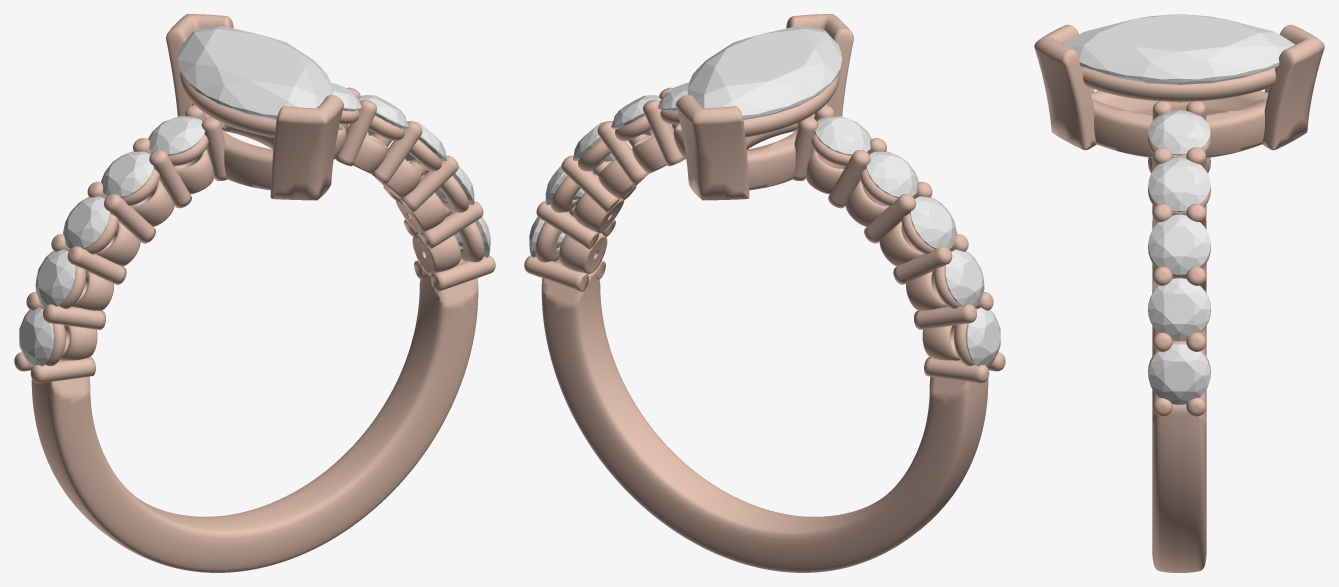
File: diamond-marquise-rosegold-protectededges2prongs-straightband-11stone.glb
The picture shows the model from 3 angles, left to right: view 1: azimuth 30°, elevation 25°; view 2: azimuth 150°, elevation 25°; view 3: azimuth 270°, elevation 25°; orthographic projection. The views are drawn at different scales.
Visible parts, largest first — view 1: metal, stone, dia.004, dia.005, dia.003, dia.006, dia, dia.010; view 2: metal, stone, dia.004, dia.005, dia.003, dia.006, dia, dia.010; view 3: metal, stone, dia.008, dia.007, dia.009, dia.010, dia.011.
Boxes of the visible parts, bbox=[...] form: metal: bbox=[14, 14, 495, 572]; stone: bbox=[177, 26, 332, 119]; dia.004: bbox=[63, 196, 109, 249]; dia.005: bbox=[101, 151, 153, 197]; dia.003: bbox=[35, 249, 75, 306]; dia.006: bbox=[148, 116, 205, 155]; dia: bbox=[19, 307, 54, 366]; dia.010: bbox=[358, 95, 408, 135]; metal: bbox=[524, 14, 1005, 572]; stone: bbox=[687, 26, 842, 119]; dia.004: bbox=[910, 196, 956, 249]; dia.005: bbox=[866, 151, 918, 197]; dia.003: bbox=[944, 249, 984, 306]; dia.006: bbox=[814, 116, 871, 155]; dia: bbox=[965, 307, 1000, 366]; dia.010: bbox=[611, 95, 661, 135]; metal: bbox=[1034, 24, 1324, 572]; stone: bbox=[1063, 14, 1295, 103]; dia.008: bbox=[1148, 278, 1210, 340]; dia.007: bbox=[1148, 343, 1210, 404]; dia.009: bbox=[1148, 214, 1210, 274]; dia.010: bbox=[1148, 157, 1210, 211]; dia.011: bbox=[1148, 110, 1210, 155].
Size of the model in its own units: 21.97 by 22.94 by 11.69.
